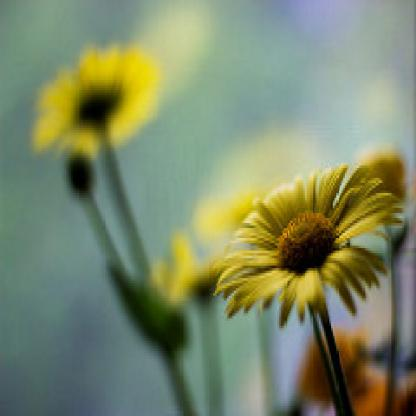ASTER: (209, 149, 408, 354), (15, 19, 171, 182)
